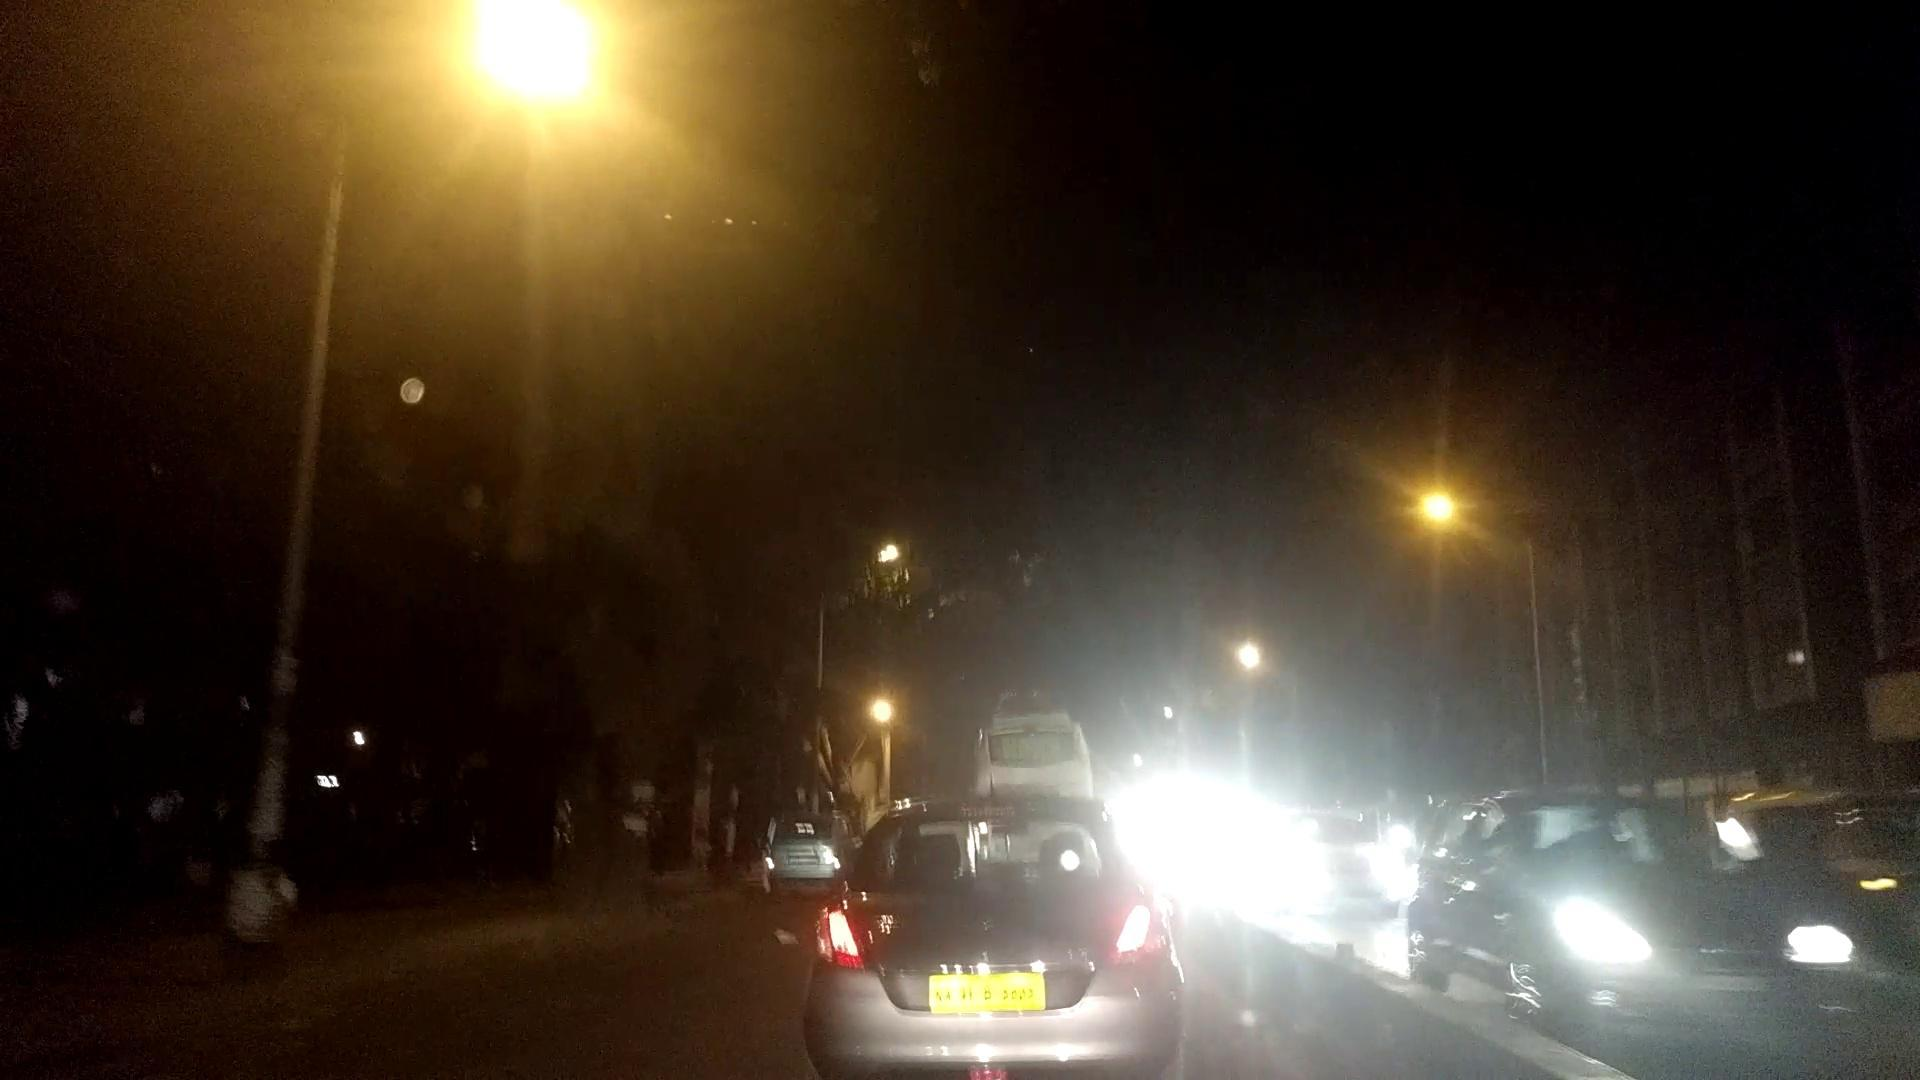on: (320, 0, 815, 363), (1250, 363, 1511, 651)
